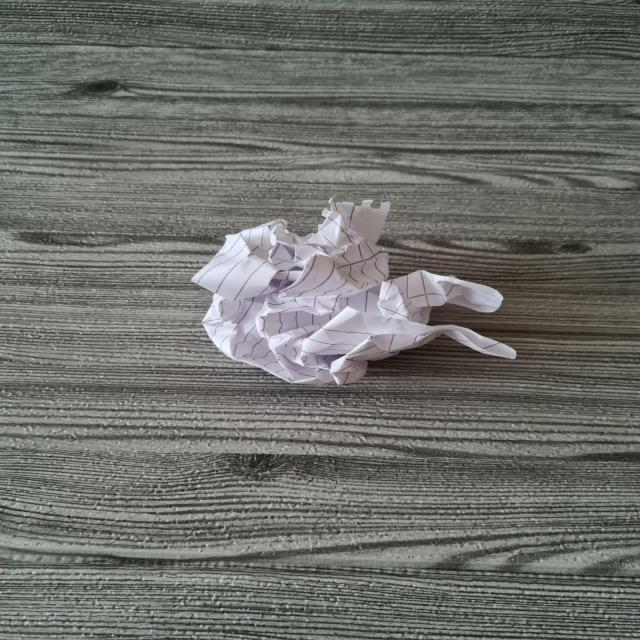cardboard paper: (192, 200, 514, 382)
